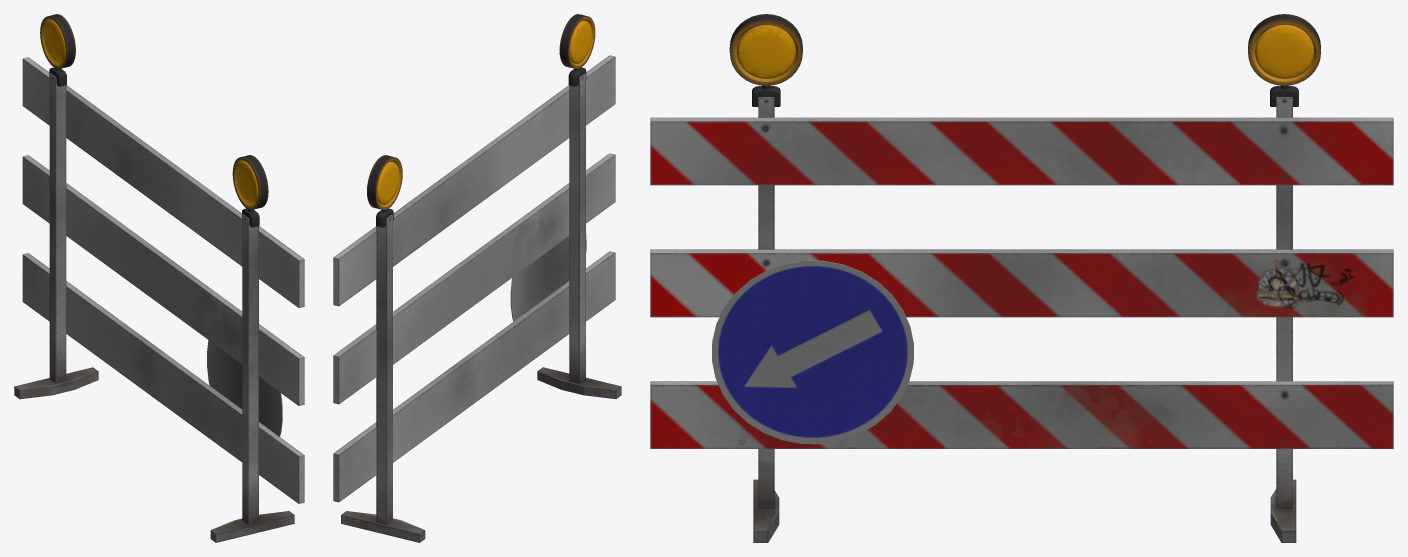
Rendered from roadclosing_final.obj.
3 renders of one model, left to right at view 1: azimuth 30°, elevation 25°; view 2: azimuth 150°, elevation 25°; view 3: azimuth 270°, elevation 25°, orthographic. The views are drawn at different scales.
Parts seen in each view (by area): view 1: Куб.006, Куб.008, Цилиндр.003, Цилиндр.004, Куб; view 2: Куб.006, Куб.008, Цилиндр.003, Цилиндр.004, Куб; view 3: Куб.006, Цилиндр.004, Цилиндр.003, Куб.008, Куб.
Boxes of the visible parts, box(x1,y1,x2,y2) form: Куб.006: box(22, 57, 304, 503); Куб.008: box(14, 73, 294, 542); Цилиндр.003: box(40, 14, 268, 209); Цилиндр.004: box(207, 340, 282, 436); Куб: box(49, 67, 259, 227); Куб.006: box(333, 55, 615, 502); Куб.008: box(341, 73, 621, 542); Цилиндр.003: box(367, 14, 595, 210); Цилиндр.004: box(510, 233, 586, 321); Куб: box(376, 67, 586, 227); Куб.006: box(650, 117, 1393, 448); Цилиндр.004: box(712, 260, 913, 444); Цилиндр.003: box(729, 14, 1320, 85); Куб.008: box(753, 97, 1296, 542); Куб: box(752, 85, 1298, 106).
Bounding box in the file's own units: 3.35 × 15.11 × 20.35.
Materials: 1 (1 with a texture image).
